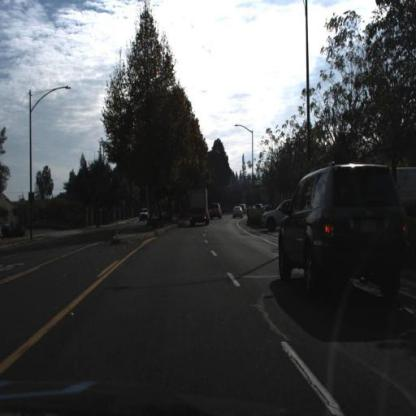car: (277, 159, 410, 313), (261, 197, 295, 235), (261, 196, 292, 233), (188, 186, 211, 230), (210, 201, 224, 223), (233, 203, 246, 222), (140, 208, 150, 225)
truck: (188, 187, 210, 229)
